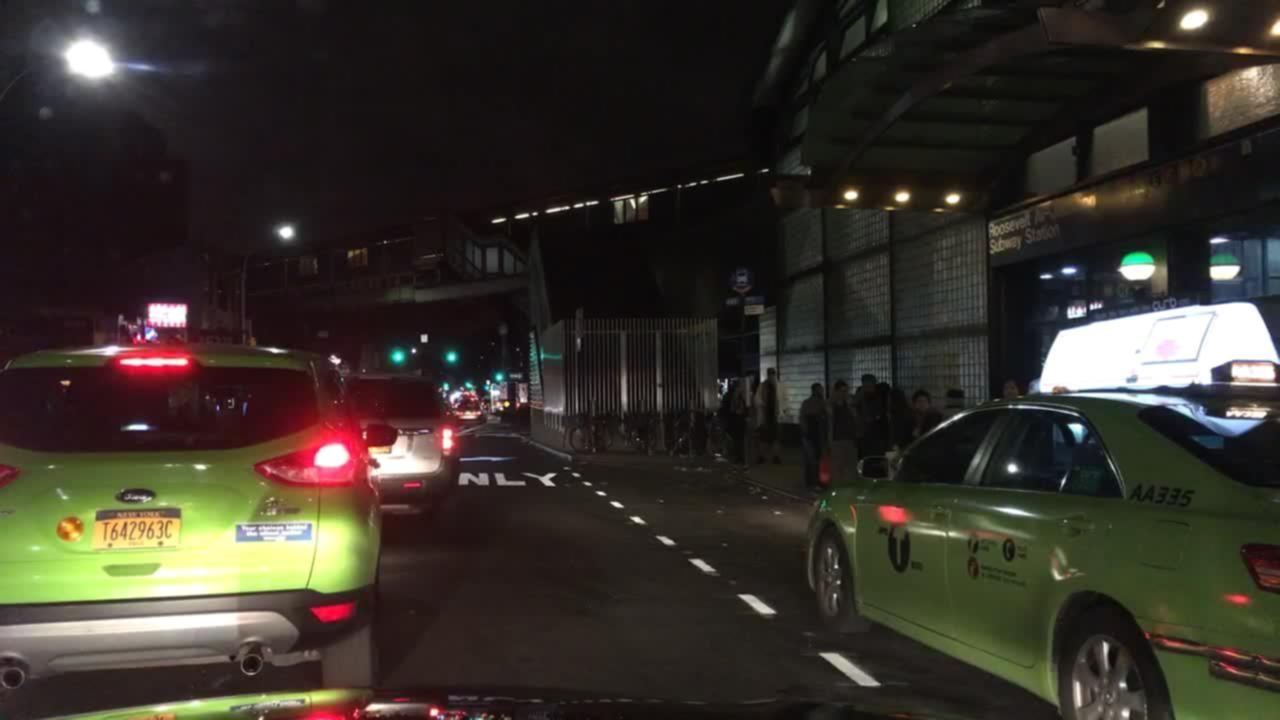ford: (108, 482, 163, 508)
